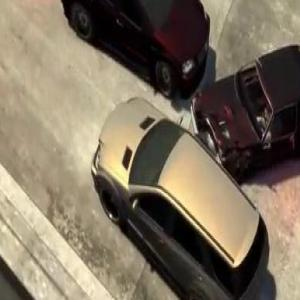negligible: (88, 37, 300, 300)
